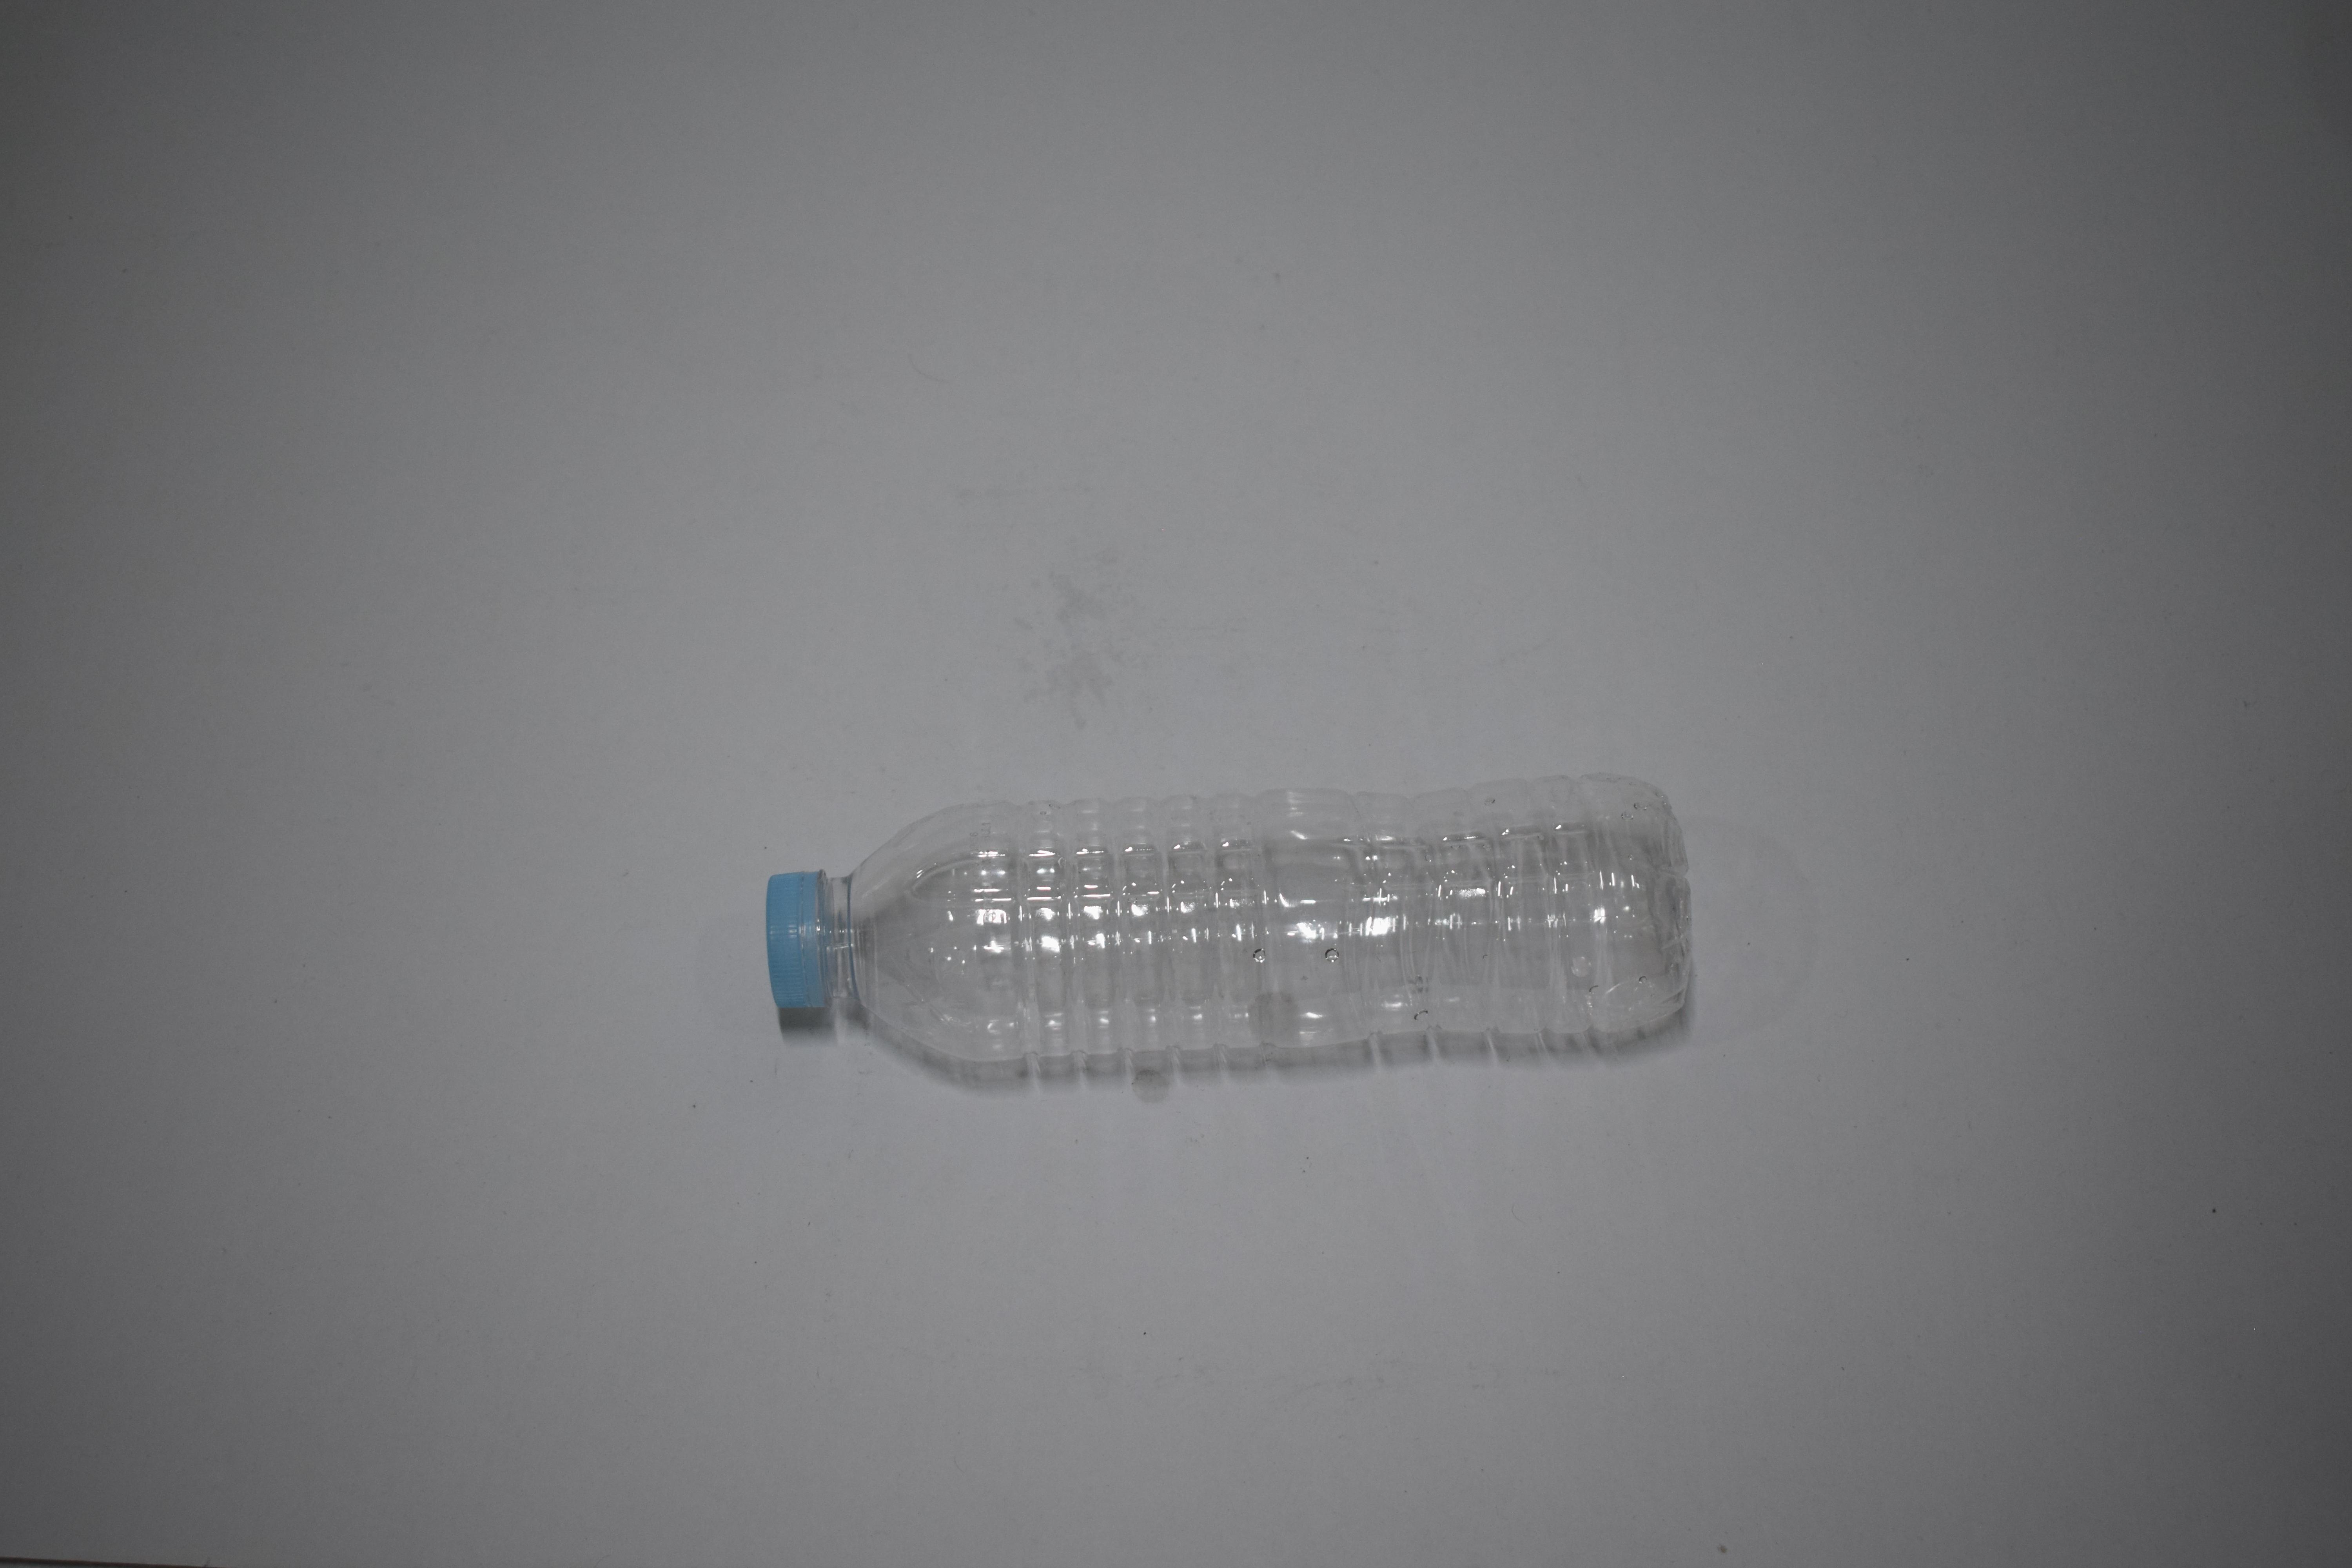bottle: (0, 0, 528, 301)
